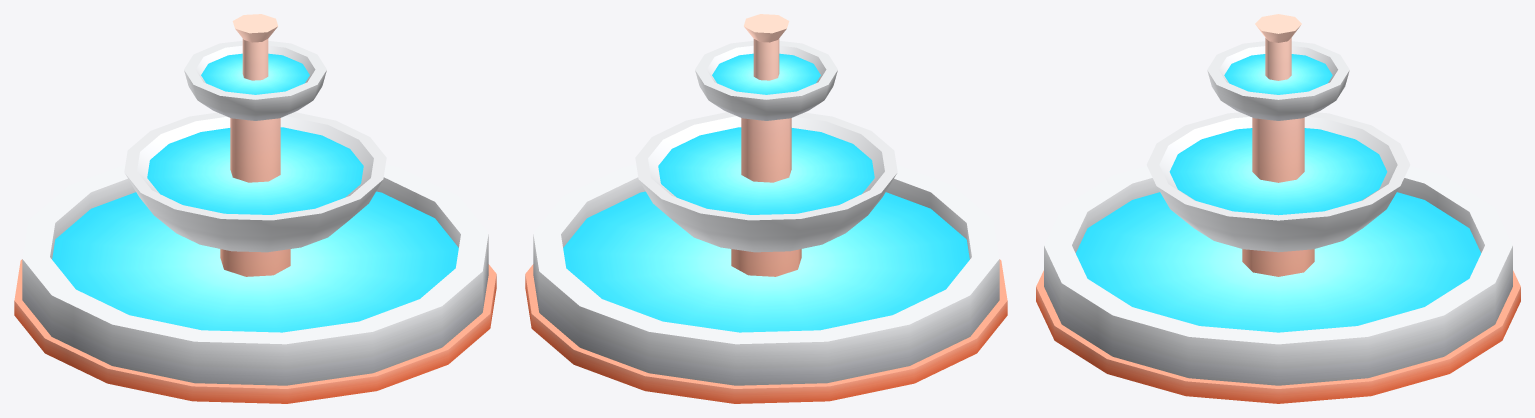
Rendered from city2-fountain-01.glb.
3 renders of one model, left to right at view 1: azimuth 30°, elevation 25°; view 2: azimuth 150°, elevation 25°; view 3: azimuth 270°, elevation 25°, orthographic.
Parts seen in each view (by area): view 1: Fountain_01; view 2: Fountain_01; view 3: Fountain_01.
Part boxes in pixels (x1,y1,x2,y2): Fountain_01: (14, 14, 496, 403); Fountain_01: (525, 14, 1007, 403); Fountain_01: (1036, 14, 1520, 403).
Bounding box in the file's own units: 5.88 × 3.72 × 5.88.
Materials: 1 (1 with a texture image).
